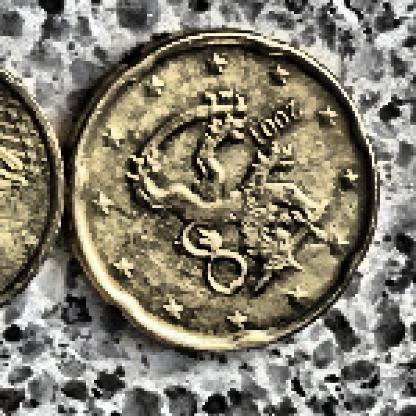coin: (71, 29, 381, 358)
